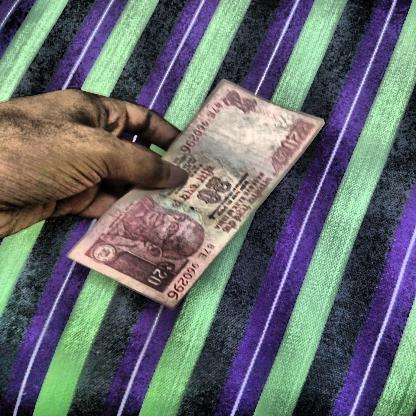Rs20: (191, 171, 241, 209), (140, 257, 182, 291)
